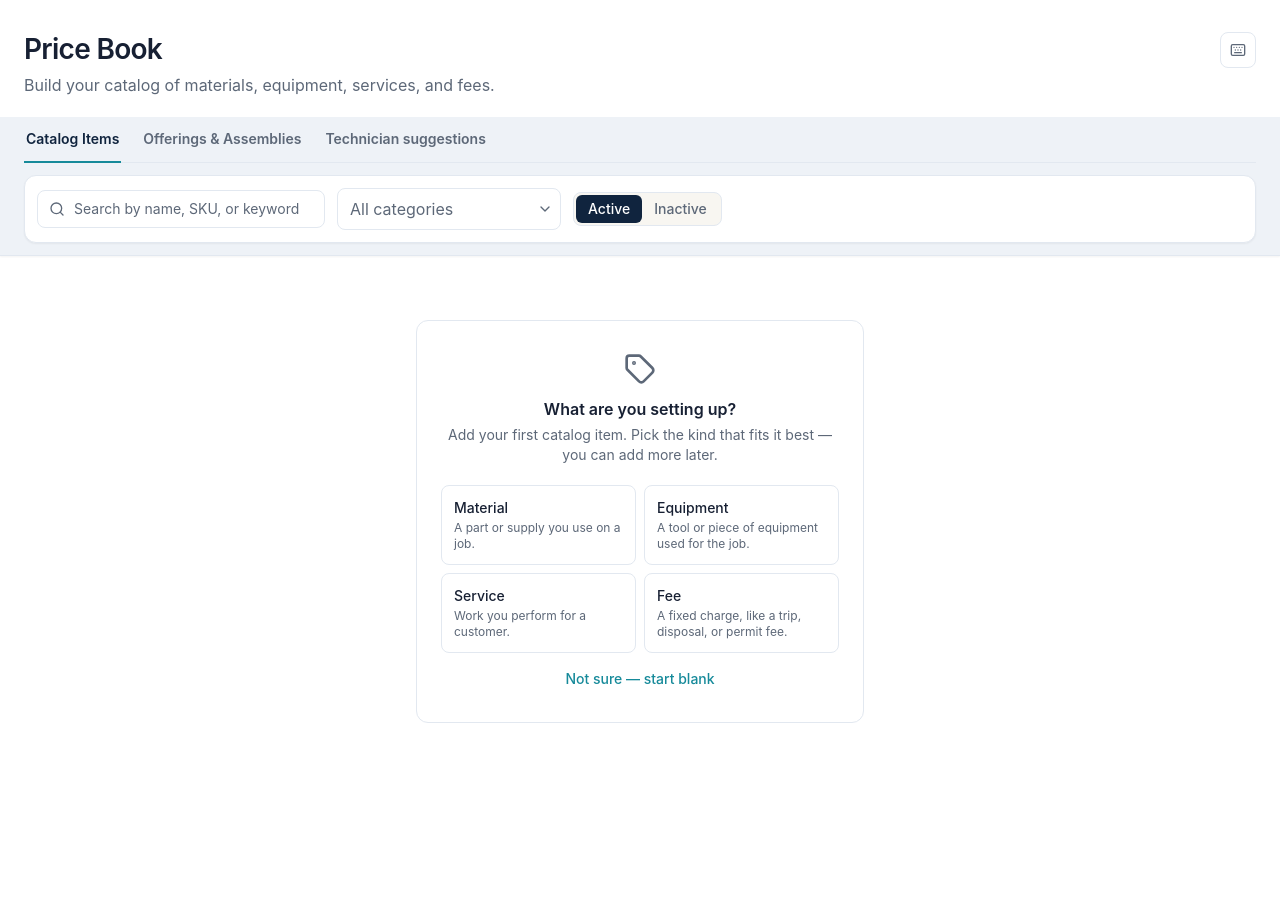
it: PriceBook › 'Not sure — start blank' opens the drawer with the default type
This screenshot has width=1280, height=900.
Expected: the heading "What are you setting up?" is shown, [544, 399, 736, 419]
Click the button "Not sure — start blank".
click(640, 679)  # box [565, 669, 715, 689]
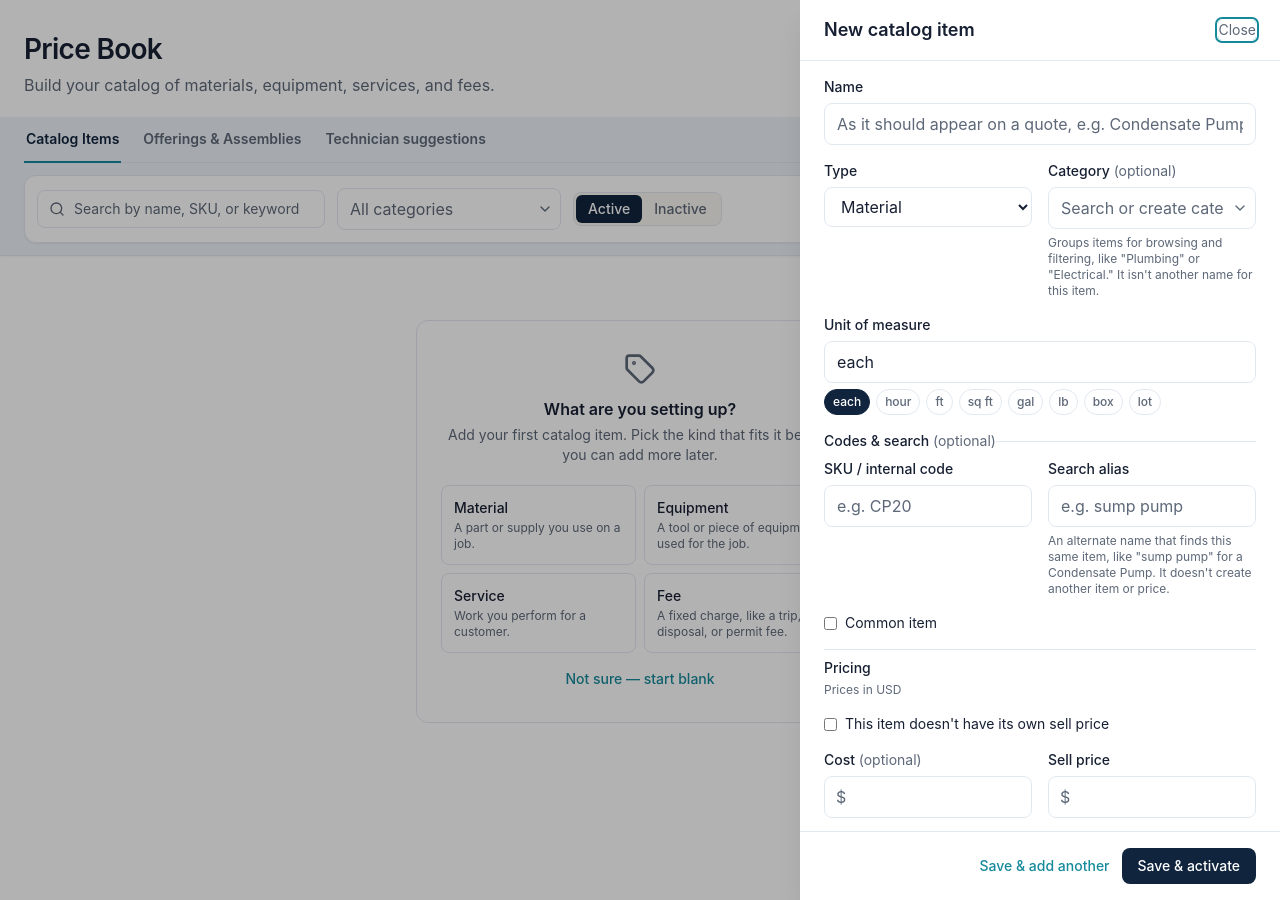
Result: the dropdown labelled "Type" shows "Material" at [824, 187, 1032, 227]
